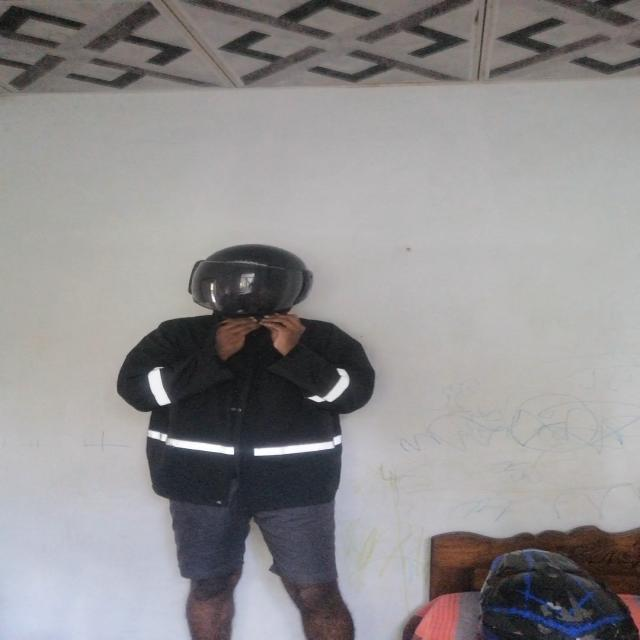Helmet_Wearer: (179, 238, 319, 341)
Jacket_Wearer: (117, 306, 391, 487)
Person: (126, 228, 385, 632)
